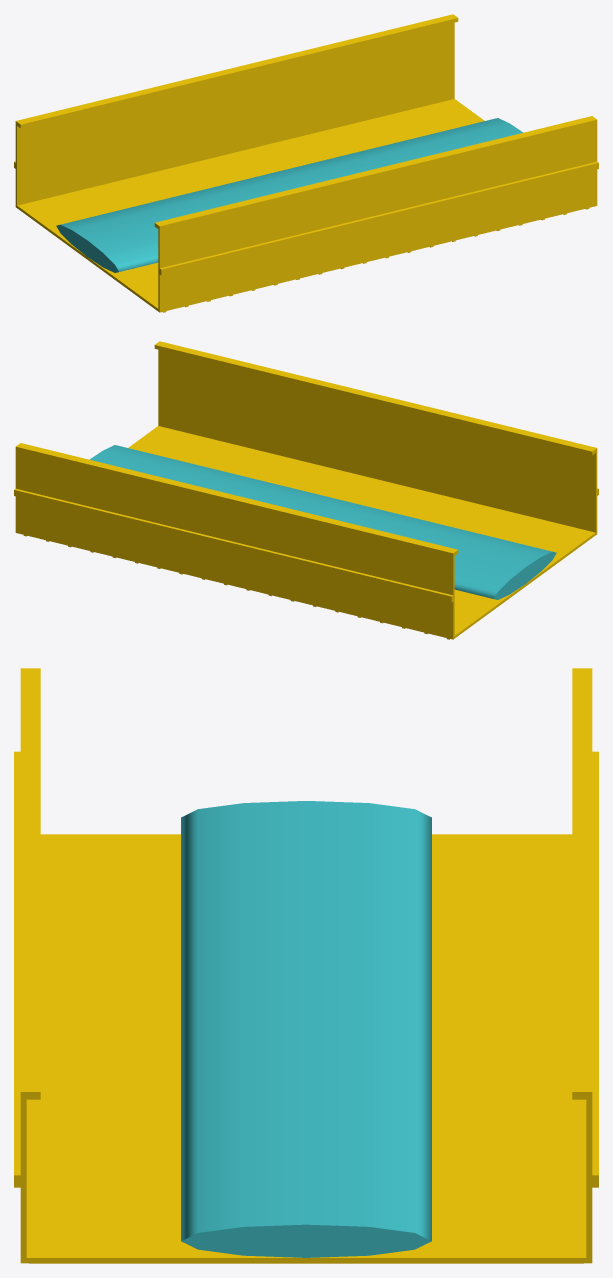
File: Fiber_Straight_0m6.glb
The picture shows the model from 3 angles, top to bottom: view 1: azimuth 30°, elevation 25°; view 2: azimuth 150°, elevation 25°; view 3: azimuth 270°, elevation 25°; orthographic projection. The views are drawn at different scales.
Visible parts, largest first — view 1: Channel, FLOW_fiber; view 2: Channel, FLOW_fiber; view 3: Channel, FLOW_fiber.
Part boxes in pixels (bbox=[...]): Channel: bbox=[14, 14, 598, 312]; FLOW_fiber: bbox=[56, 118, 522, 272]; Channel: bbox=[14, 341, 598, 639]; FLOW_fiber: bbox=[90, 445, 556, 599]; Channel: bbox=[14, 668, 598, 1263]; FLOW_fiber: bbox=[181, 801, 431, 1257].
Size of the model in its own units: 0.6 by 0.117 by 0.35.
